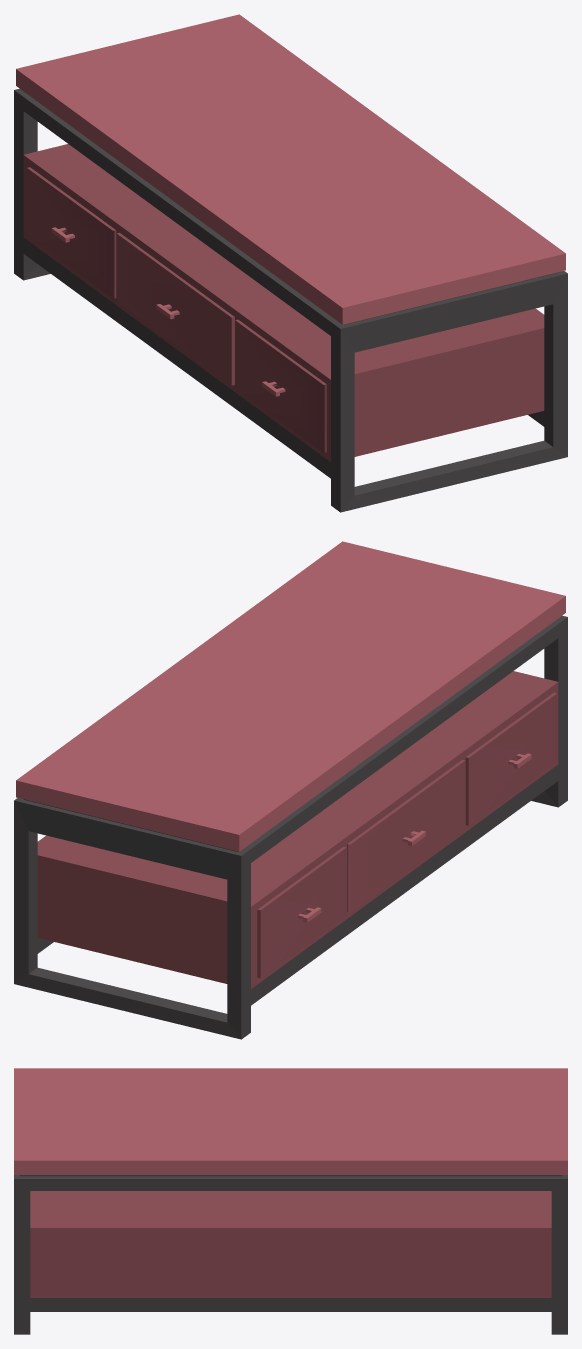
File: SM_Shelf_Tv_1_04.fbx
3 views of the same model, one above another, from view 1: azimuth 30°, elevation 25°; view 2: azimuth 150°, elevation 25°; view 3: azimuth 270°, elevation 25° (orthographic). The views are drawn at different scales.
Parts seen in each view (by area): view 1: SM_Shelf_Tv_1_04; view 2: SM_Shelf_Tv_1_04; view 3: SM_Shelf_Tv_1_04.
Part boxes in pixels (x1=…): SM_Shelf_Tv_1_04: x1=14, y1=14, x2=567, y2=512; SM_Shelf_Tv_1_04: x1=14, y1=541, x2=567, y2=1039; SM_Shelf_Tv_1_04: x1=14, y1=1068, x2=567, y2=1334.
Bounding box in the file's own units: 96.83 × 78.22 × 227.
